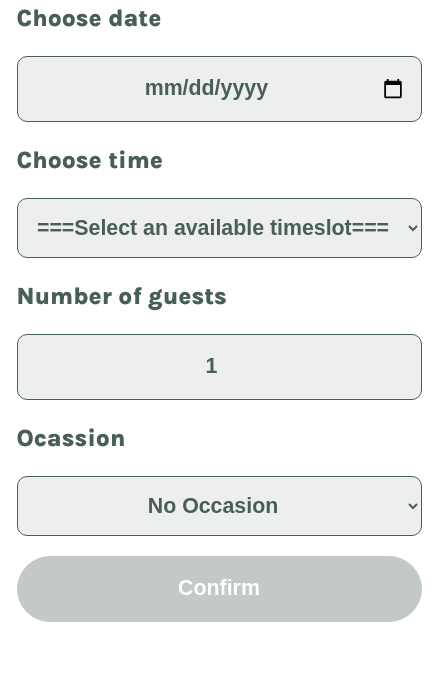
Test: JavaScript validation is applied to BookingForm fields › an error message should be displayed when user has chosen an invalid time and cannot submit form
Select "===Select an available timeslot===" in the dropdown labelled "Choose time" at coordinates (219, 228), box [16,198,422,258]
Leave the dropdown labelled "Choose time", box [16,198,422,258]
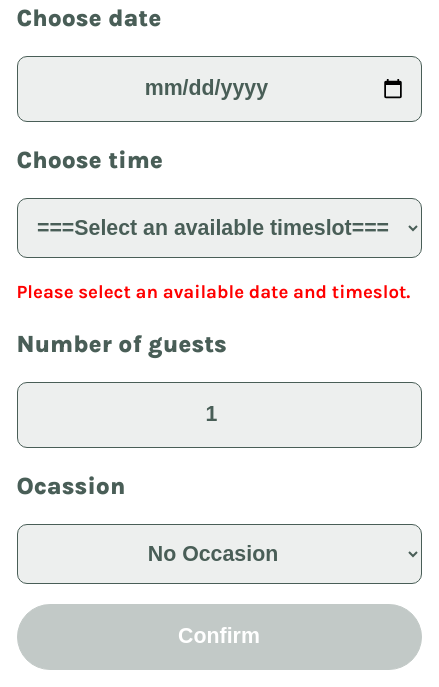
Expected: the text "Please select an available date and timeslot." is shown, [16,278,422,306]
